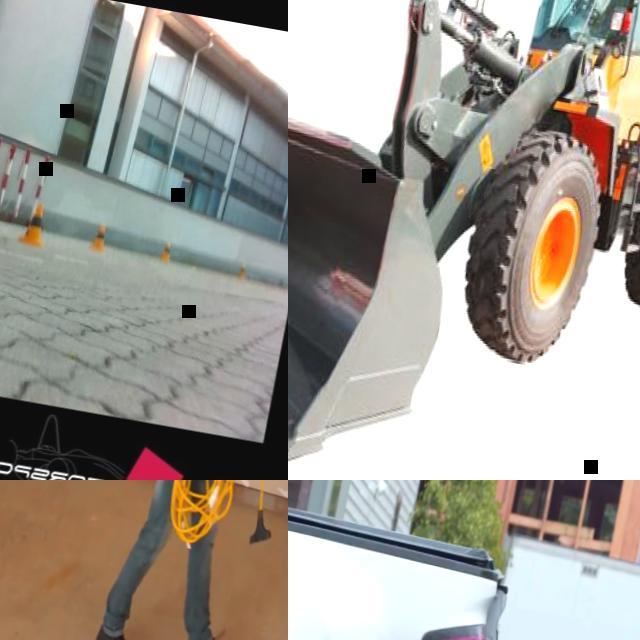machinery: (288, 0, 640, 480)
person: (88, 480, 288, 640), (543, 500, 640, 640)
safety_cone: (18, 200, 52, 246), (92, 223, 111, 250), (162, 241, 174, 263), (239, 263, 249, 279)
vehicle: (288, 496, 640, 640)
